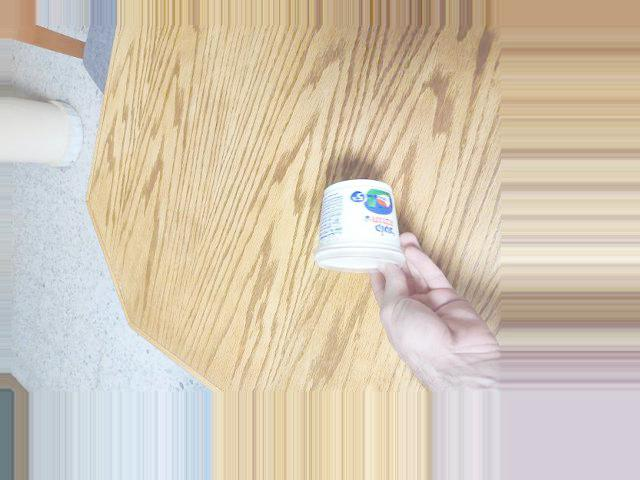cotage: (305, 179, 421, 288)
